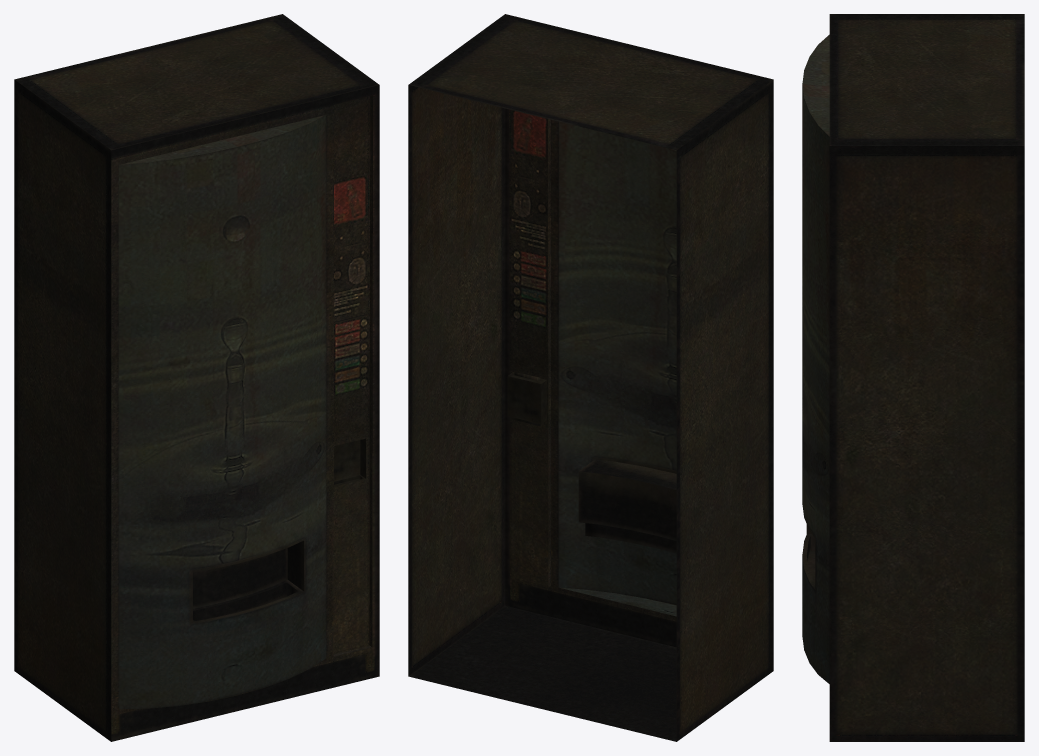
The model's file is vending_machine_1.fbx.
The picture shows the model from 3 angles, left to right: view 1: azimuth 30°, elevation 25°; view 2: azimuth 150°, elevation 25°; view 3: azimuth 270°, elevation 25°; orthographic projection.
Parts seen in each view (by area): view 1: vending_machine_1; view 2: vending_machine_1; view 3: vending_machine_1.
Boxes of the visible parts, left/top/right/bottom form: vending_machine_1: left=14, top=14, right=379, bottom=741; vending_machine_1: left=408, top=14, right=773, bottom=741; vending_machine_1: left=802, top=14, right=1024, bottom=741.
Bounding box in the file's own units: 0.952 × 0.6778 × 2.01.
